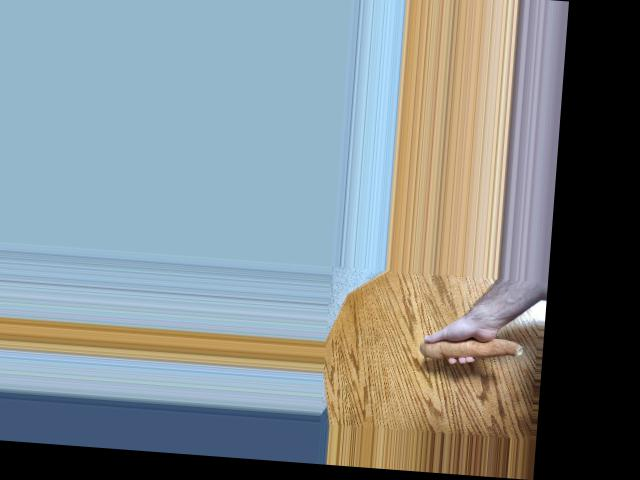sweet_potato: (418, 324, 527, 367)
